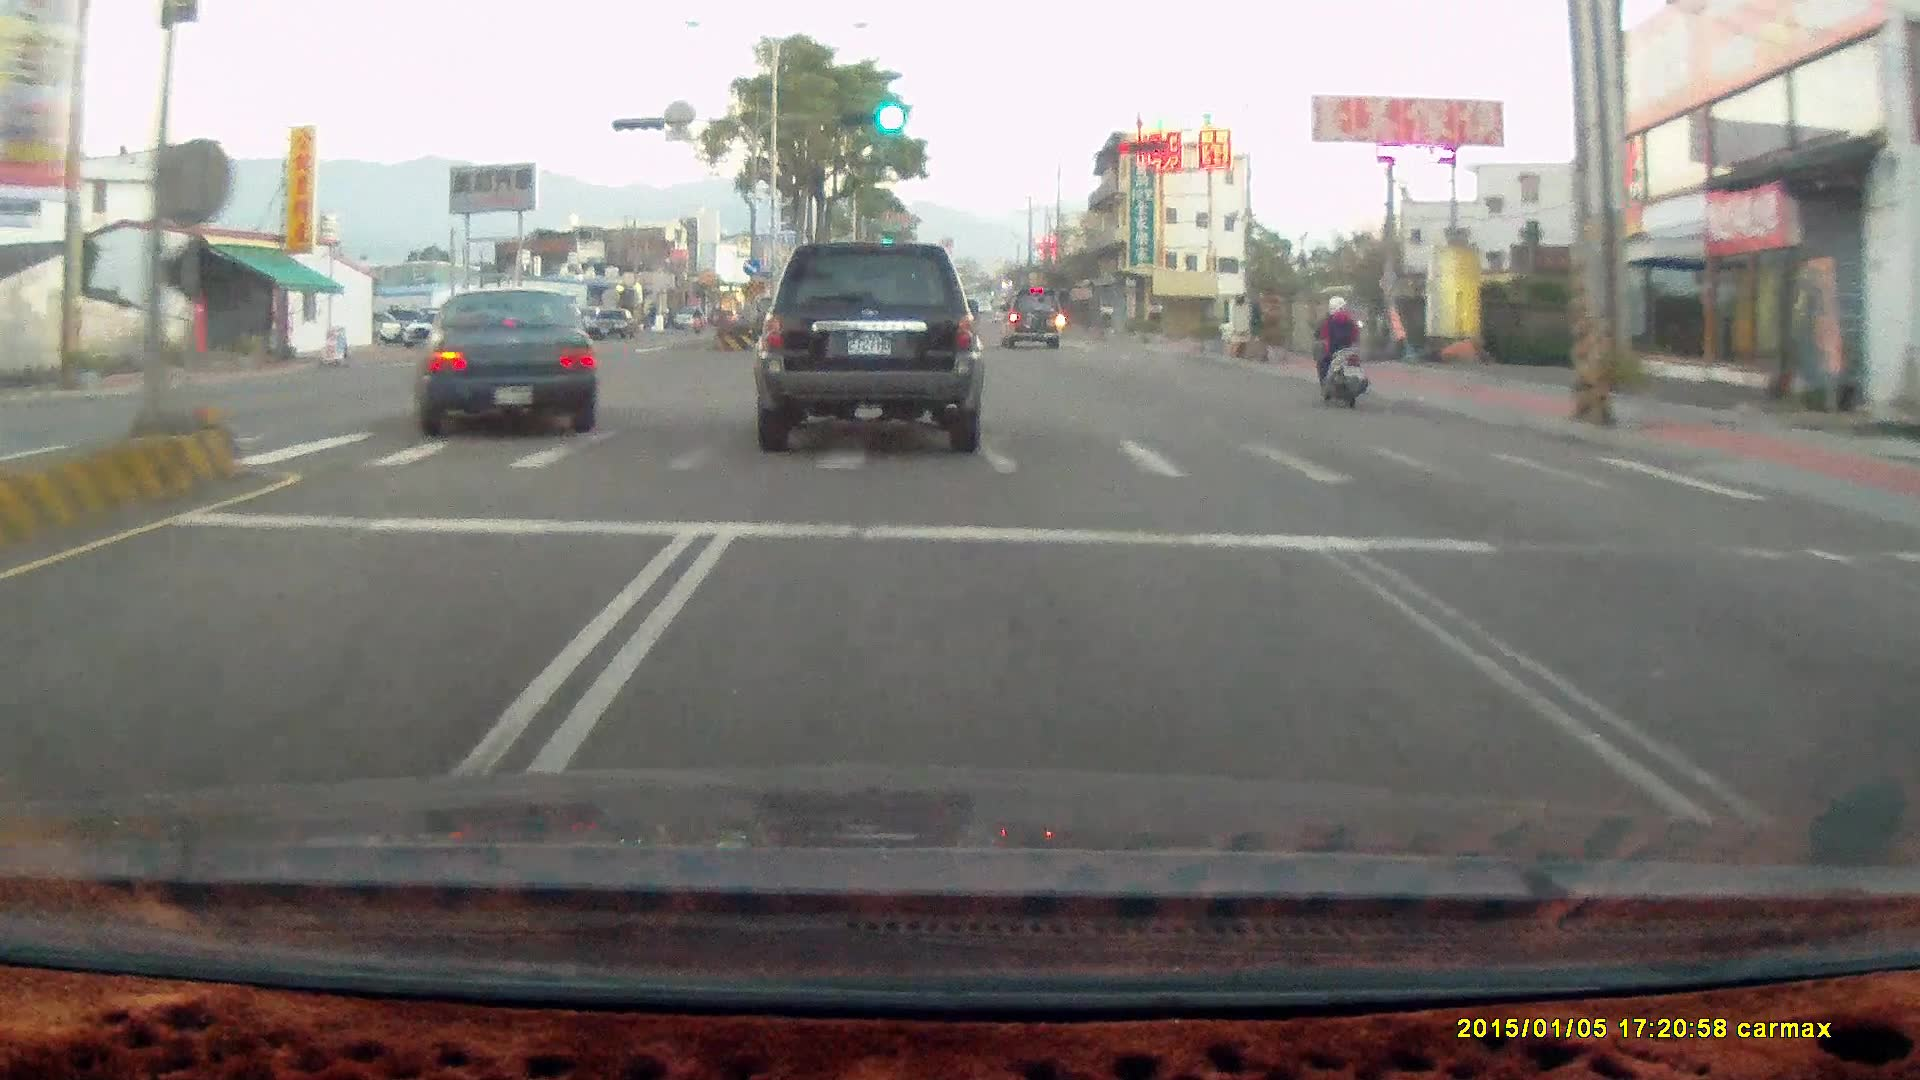rider: (1300, 285, 1379, 417), (1307, 292, 1368, 410)
vehicle: (755, 242, 986, 459), (753, 241, 984, 453), (413, 280, 596, 435), (410, 282, 597, 434), (999, 285, 1067, 351), (998, 280, 1062, 342), (400, 312, 477, 350), (585, 306, 635, 339)
